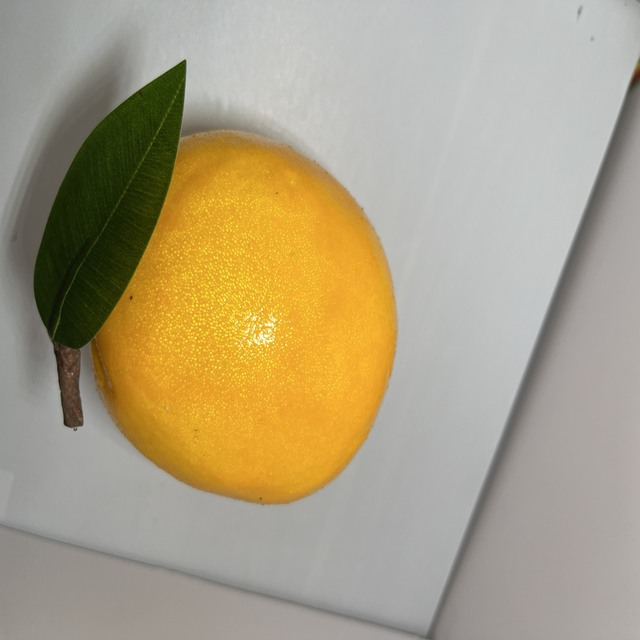Cam vang: (73, 119, 403, 507)
